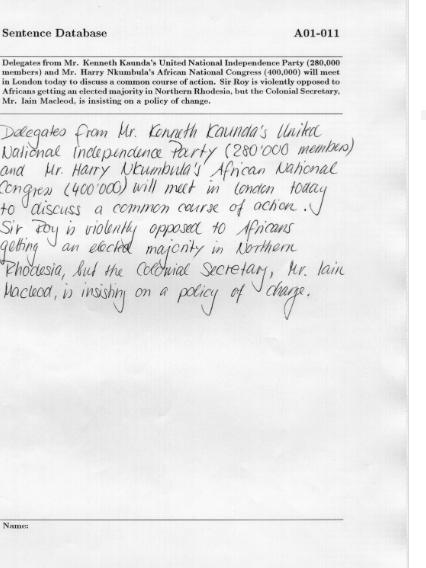text: (2, 279, 311, 321), (1, 258, 348, 290), (0, 135, 357, 164), (0, 179, 329, 209), (0, 235, 298, 265), (0, 118, 325, 145), (0, 216, 297, 243), (0, 158, 341, 181), (0, 198, 299, 219), (0, 75, 342, 87), (0, 66, 342, 77), (1, 58, 342, 68), (1, 86, 340, 96), (1, 95, 211, 107), (0, 28, 108, 40), (292, 27, 341, 40), (1, 522, 30, 530)
